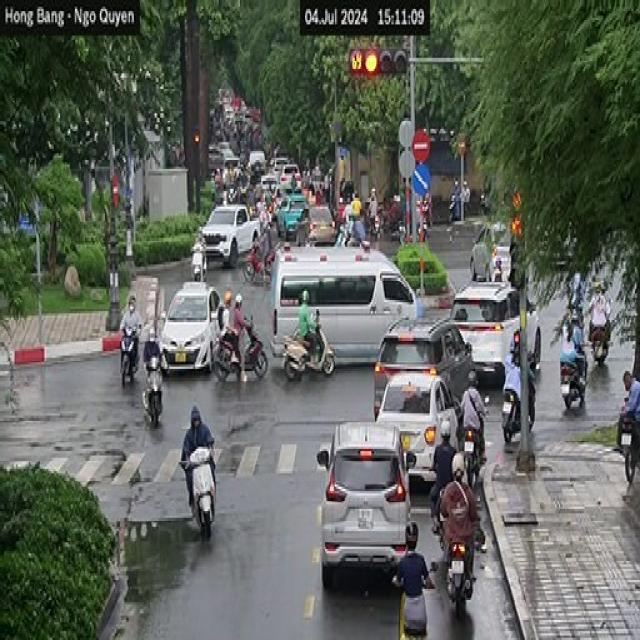Red: (348, 45, 408, 83), (508, 184, 526, 290)
